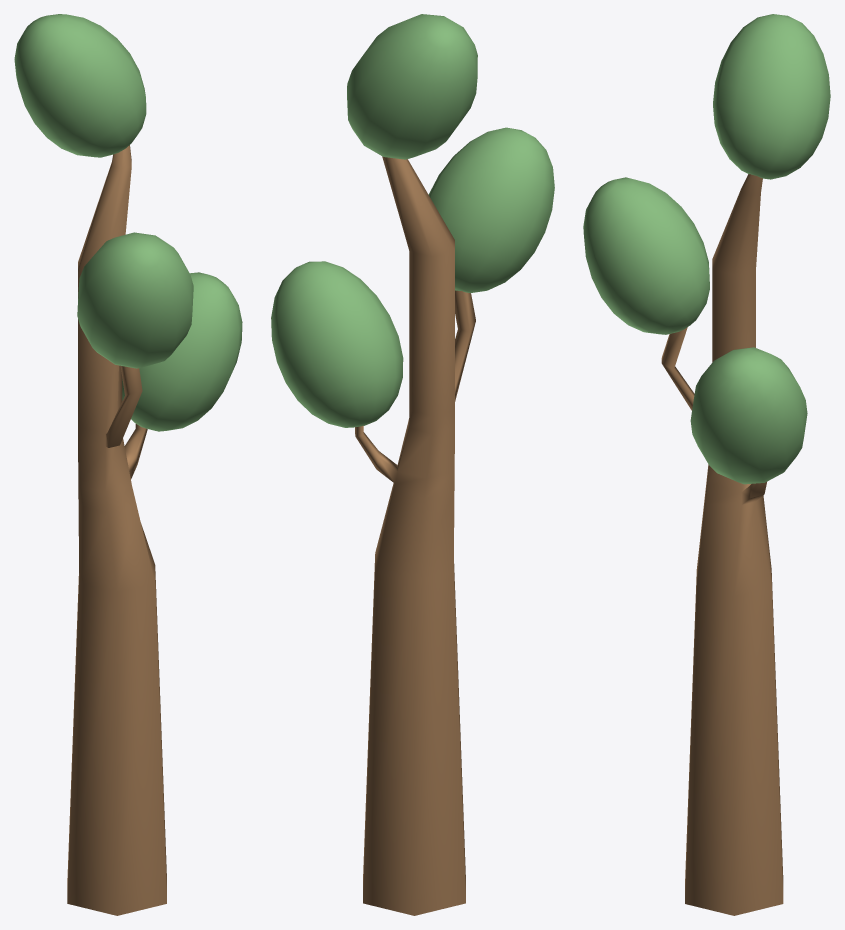
Rendered from Arvore3fbx.fbx.
3 renders of one model, left to right at view 1: azimuth 30°, elevation 25°; view 2: azimuth 150°, elevation 25°; view 3: azimuth 270°, elevation 25°, orthographic. The views are drawn at different scales.
Visible parts, largest first — view 1: Tronco, pSphere3, pSphere2, pSphere1; view 2: Tronco, pSphere1, pSphere3, pSphere2; view 3: Tronco, pSphere3, pSphere2, pSphere1.
Part boxes in pixels (bbox=[...]): Tronco: bbox=[67, 145, 166, 915]; pSphere3: bbox=[14, 14, 146, 157]; pSphere2: bbox=[77, 232, 193, 368]; pSphere1: bbox=[122, 272, 242, 431]; Tronco: bbox=[355, 156, 475, 915]; pSphere1: bbox=[271, 261, 403, 427]; pSphere3: bbox=[347, 14, 477, 159]; pSphere2: bbox=[428, 127, 554, 293]; Tronco: bbox=[661, 174, 783, 915]; pSphere3: bbox=[713, 14, 830, 179]; pSphere2: bbox=[583, 177, 709, 334]; pSphere1: bbox=[690, 347, 807, 484].
Bounding box in the file's own units: 4.06 × 16.64 × 4.36.
